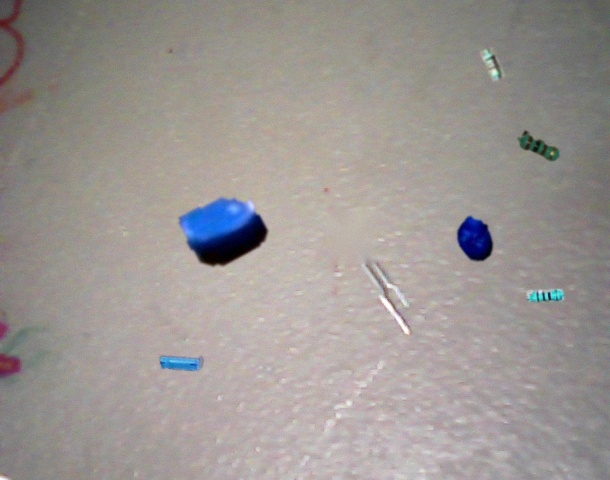capacitor: (179, 197, 268, 266), (457, 216, 494, 261), (160, 356, 203, 371)
resistor: (517, 131, 560, 162), (480, 47, 505, 82), (527, 289, 564, 302)
